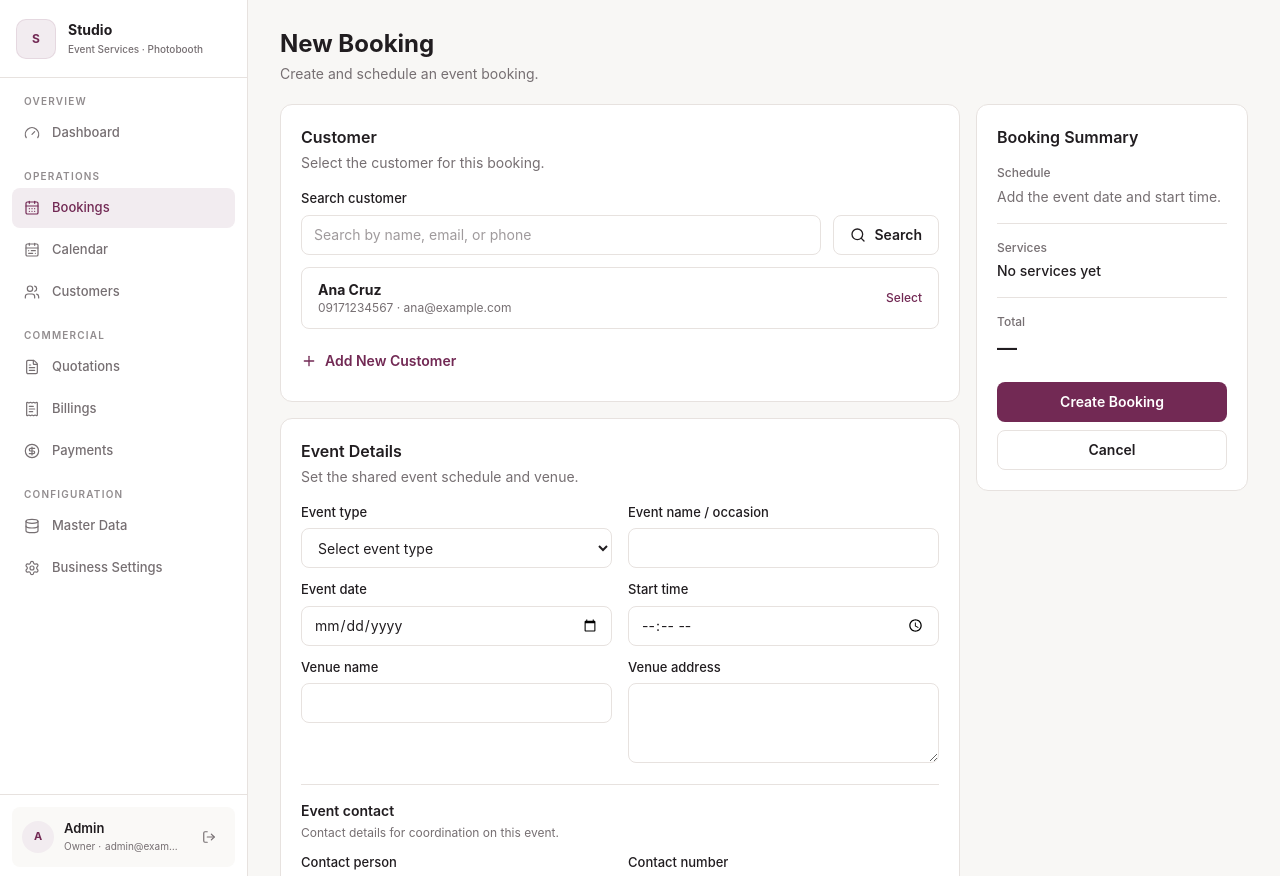
Test: shows an empty result when customer search has no matches
Expected: the option "Ana Cruz" is shown, [302,268,938,328]
Step 1. Type "missing" into the field labelled "Search customer" → [561, 234], box [301,214,822,254]
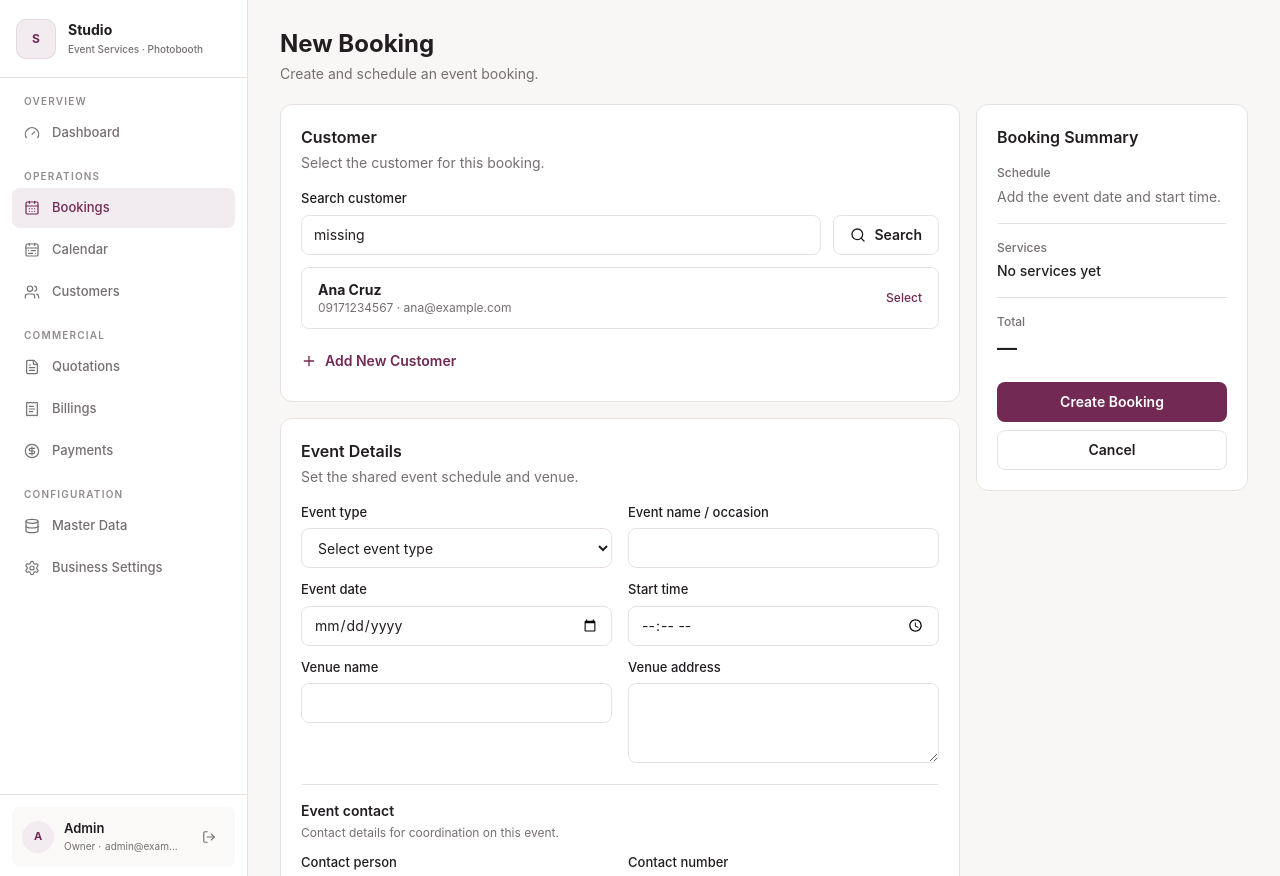
Step 2. Click the button "Search" → [886, 234], box [834,214,939,254]
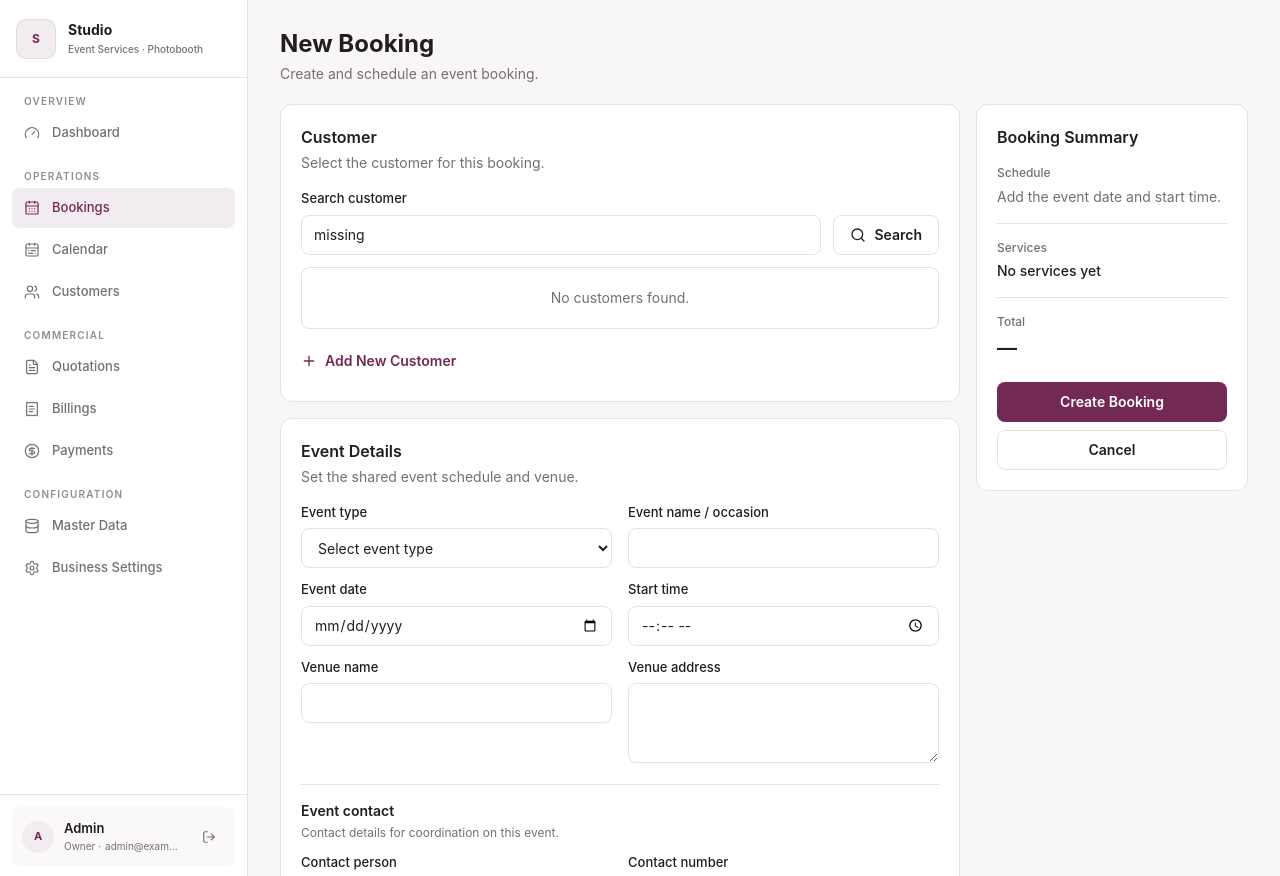
Expected: the button "Add New Customer" is shown, [301,340,456,380]
Result: the text "No customers found." is shown at [551,288,689,306]
